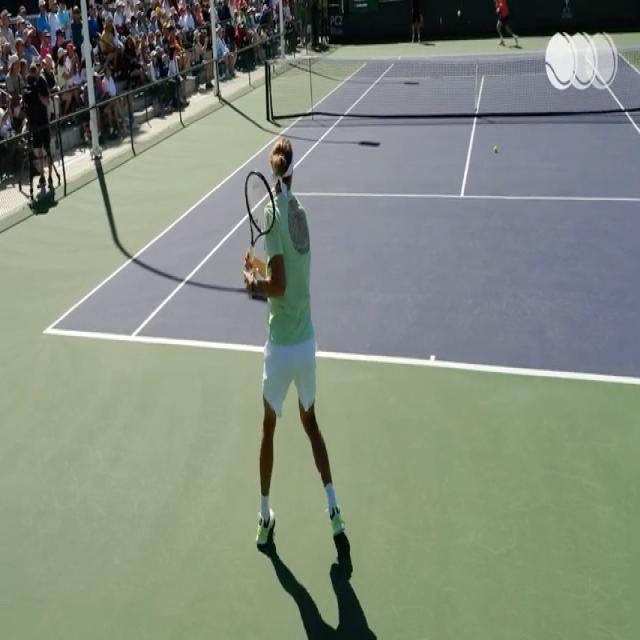forehand-finish: (219, 125, 338, 580)
